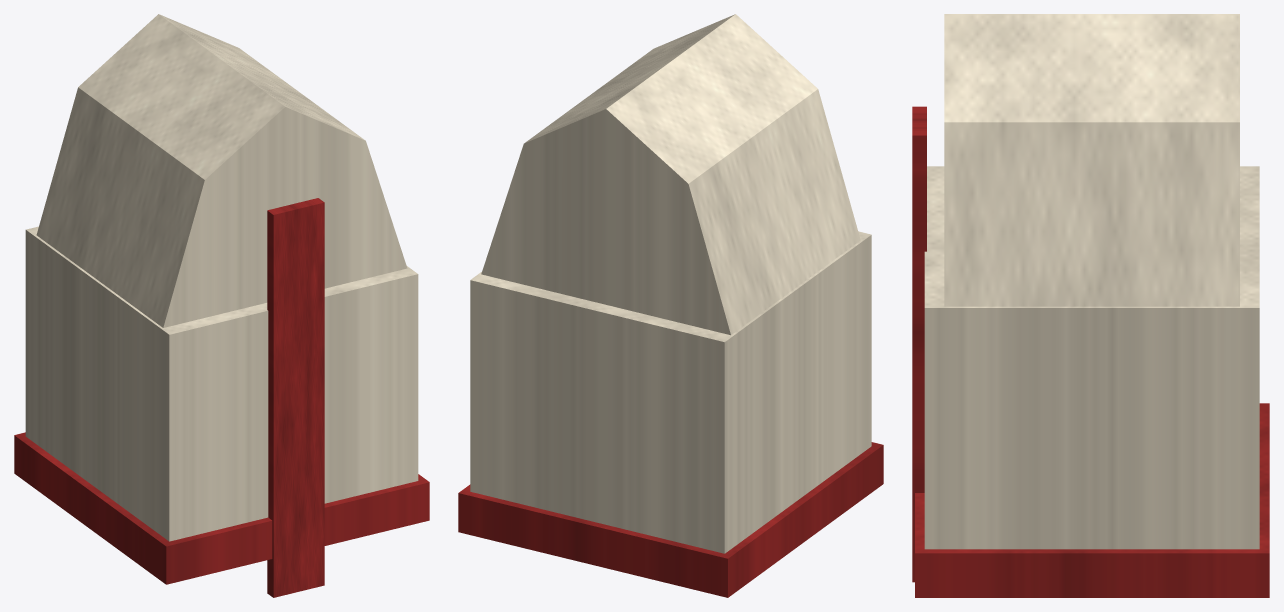
File: rival_sallow_mitre.obj
3 renders of one model, left to right at view 1: azimuth 30°, elevation 25°; view 2: azimuth 150°, elevation 25°; view 3: azimuth 270°, elevation 25°, orthographic. The views are drawn at different scales.
Parts seen in each view (by area): view 1: rival_sallow_mitre; view 2: rival_sallow_mitre; view 3: rival_sallow_mitre.
Part boxes in pixels (left/top/right/bottom): rival_sallow_mitre: left=14, top=14, right=429, bottom=597; rival_sallow_mitre: left=458, top=14, right=883, bottom=597; rival_sallow_mitre: left=912, top=14, right=1269, bottom=597.
Size of the model in its own units: 0.45 by 0.775 by 0.4531.
